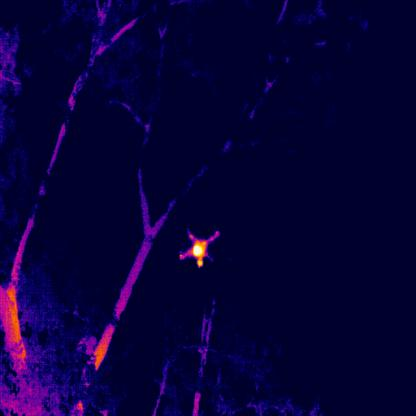drone: (178, 227, 219, 268)
